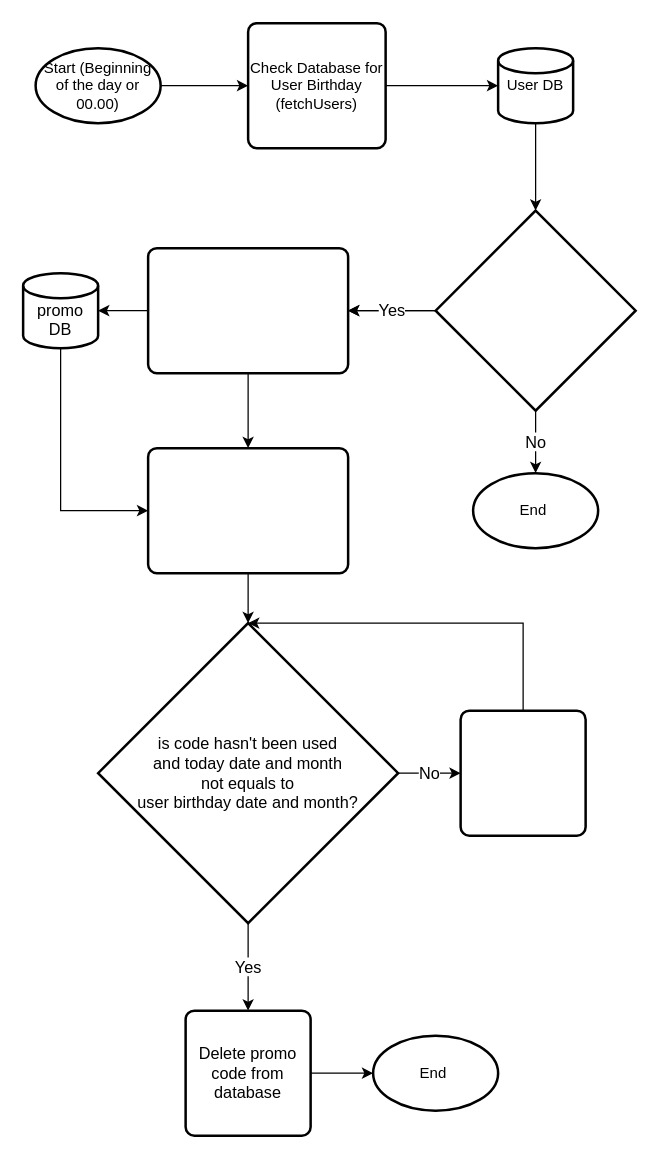
This 658x1158 diagram has some shape labels left out. The centre of each missing label's shape, as x and y in pixels:
Check Again Later: (522,772)
Generating promo code for user (generatePromoCode) to database: (247,310)
is today date and month equals to user birthday date and month?: (535,310)
Send promo code with birthday message to user (sendNotification): (247,510)
